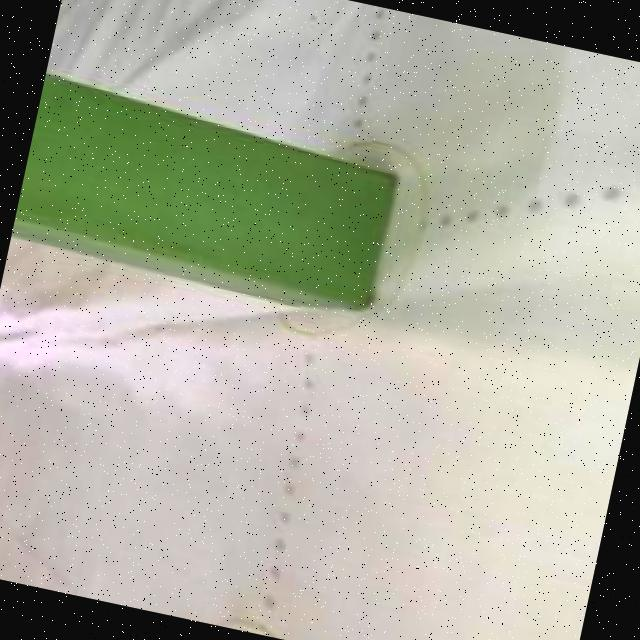greenbox: (9, 64, 408, 322)
